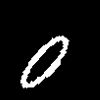chain: (21, 36, 68, 87)
